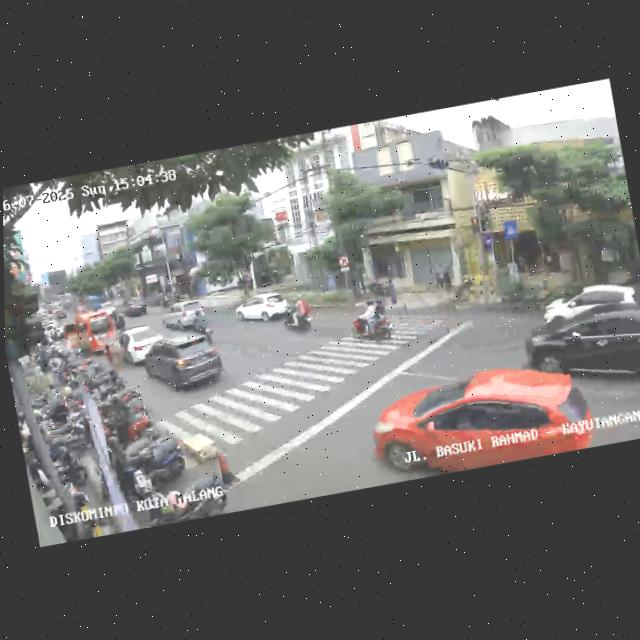car: (365, 352, 600, 485), (520, 294, 640, 410), (140, 331, 229, 401), (542, 275, 640, 331), (61, 308, 119, 362), (115, 322, 170, 370), (234, 289, 292, 329), (160, 298, 206, 334), (124, 298, 150, 320)
motorcycle: (348, 295, 396, 349), (281, 291, 315, 334), (191, 306, 217, 345), (113, 309, 129, 344)
person: (387, 277, 399, 306)
